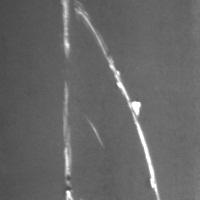scratches: (75, 2, 162, 199), (59, 90, 78, 200), (58, 1, 72, 57)
